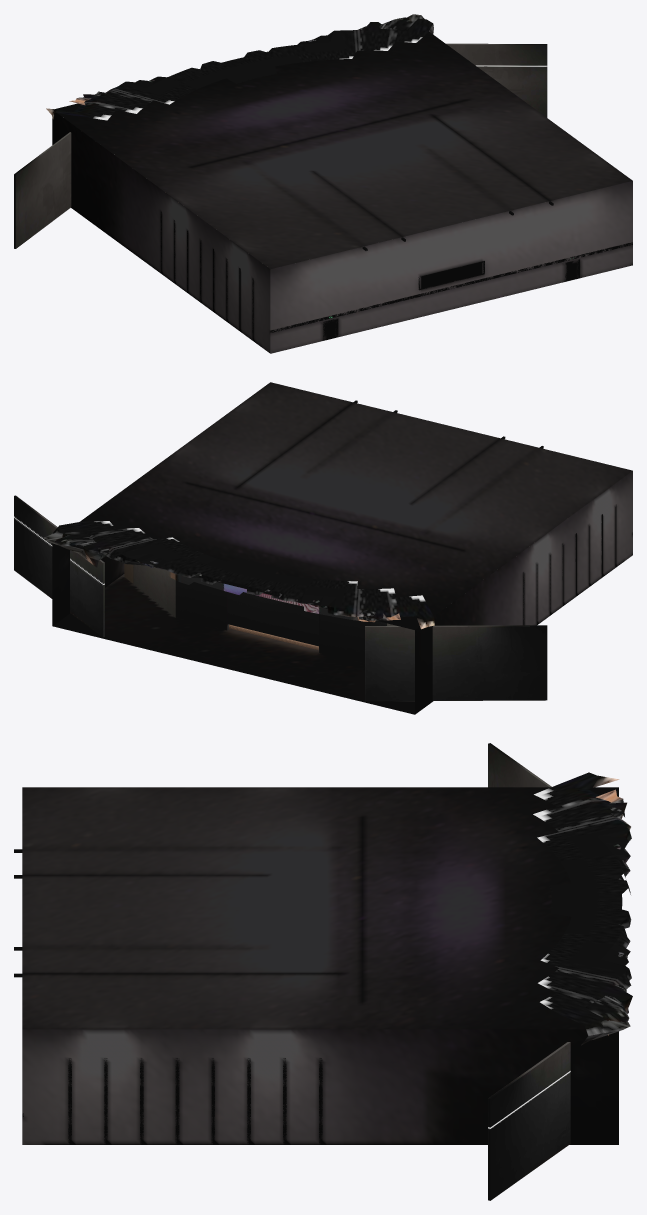
Rendered from keynote_hall.96a1606d.glb.
3 renders of one model, top to bottom at view 1: azimuth 30°, elevation 25°; view 2: azimuth 150°, elevation 25°; view 3: azimuth 270°, elevation 25°, orthographic. The views are drawn at different scales.
Parts seen in each view (by area): view 1: room-ceiling, room-wall-back, room-wall-left, venue-backfill-1, wall_wall1_0, room-box-0-band-front, venue-backfill; view 2: room-ceiling, wall_wall1_0, room-wall-left, room-floor, venue-backfill-1, backwall_backwall4_0, dec_dec1_0, room-wall-right, backwall_backwall1_0, venue-backfill; view 3: room-ceiling, room-wall-right, venue-backfill-1, wall_wall1_0, venue-backfill.
Boxes of the visible parts, x1,y1,x2,y2 form: room-ceiling: (55, 31, 632, 269); room-wall-back: (270, 181, 632, 353); room-wall-left: (52, 113, 270, 353); venue-backfill-1: (46, 14, 433, 120); wall_wall1_0: (14, 43, 547, 248); room-box-0-band-front: (270, 242, 632, 332); venue-backfill: (69, 17, 415, 110); room-ceiling: (70, 382, 632, 629); wall_wall1_0: (14, 495, 547, 701); room-wall-left: (415, 471, 632, 714); room-floor: (53, 574, 414, 714); venue-backfill-1: (43, 521, 434, 629); backwall_backwall4_0: (175, 580, 386, 663); dec_dec1_0: (227, 592, 318, 646); room-wall-right: (52, 543, 124, 625); backwall_backwall1_0: (133, 564, 396, 625); venue-backfill: (55, 532, 400, 620); room-ceiling: (22, 787, 618, 1029); room-wall-right: (22, 1029, 618, 1144); venue-backfill-1: (533, 772, 632, 1045); wall_wall1_0: (488, 743, 570, 1200); venue-backfill: (584, 789, 629, 1035).
Bounding box in the file's own units: 70.63 × 11.58 × 51.88.
33 materials, 27 textured.
